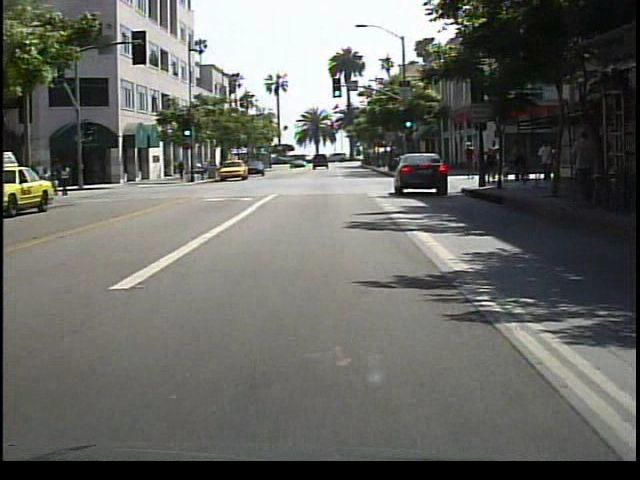person: (58, 161, 79, 202), (461, 140, 478, 184)
